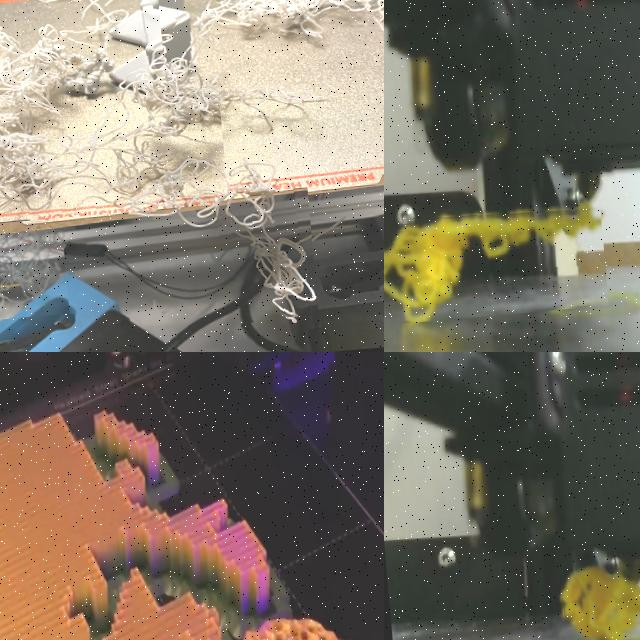spaghetti: (384, 207, 601, 322), (149, 0, 384, 94), (218, 191, 317, 319), (561, 567, 640, 640), (0, 238, 65, 318)
